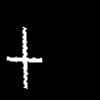single_crochet: (7, 27, 41, 87)
